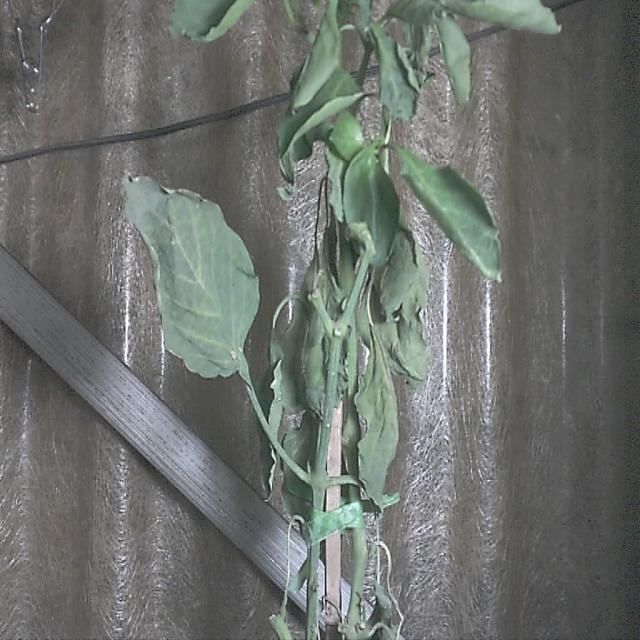Leaf: (124, 172, 258, 385), (401, 145, 501, 283), (356, 328, 401, 523), (342, 148, 400, 270)
